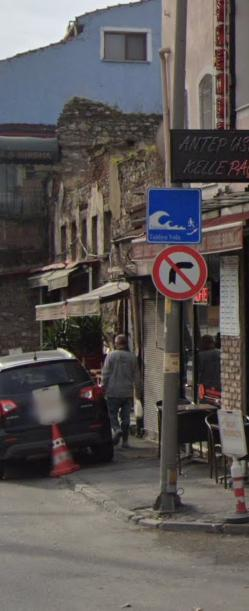rightturnsareforbidden: (148, 244, 210, 301)
